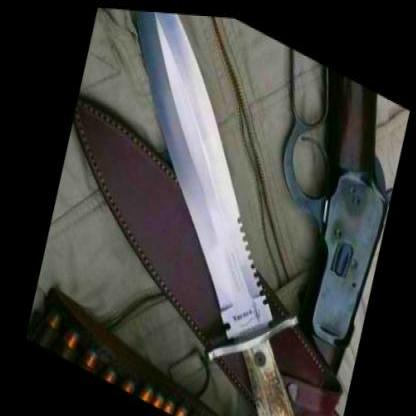knife: (47, 3, 340, 349)
